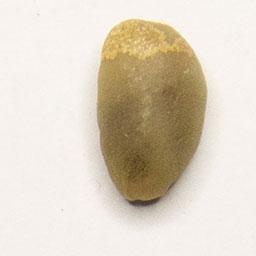longberry: (94, 16, 210, 206)
